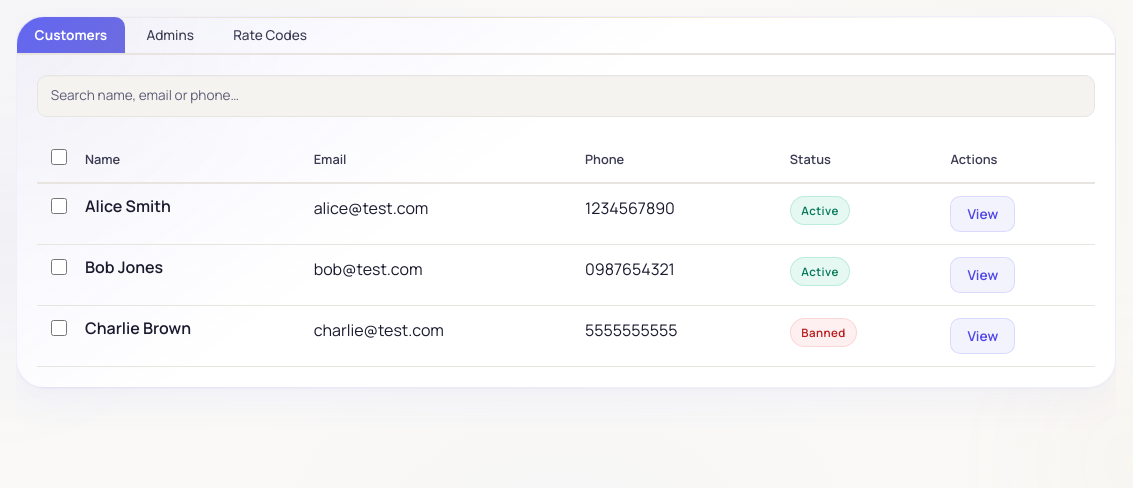
Scenario: AdminUsersConfig Page › clear button deselects all
expect the text "Alice Smith" is shown: met, box [85, 195, 171, 217]
Click the checkbox next to "Name" at (59, 157), box [51, 149, 67, 165]
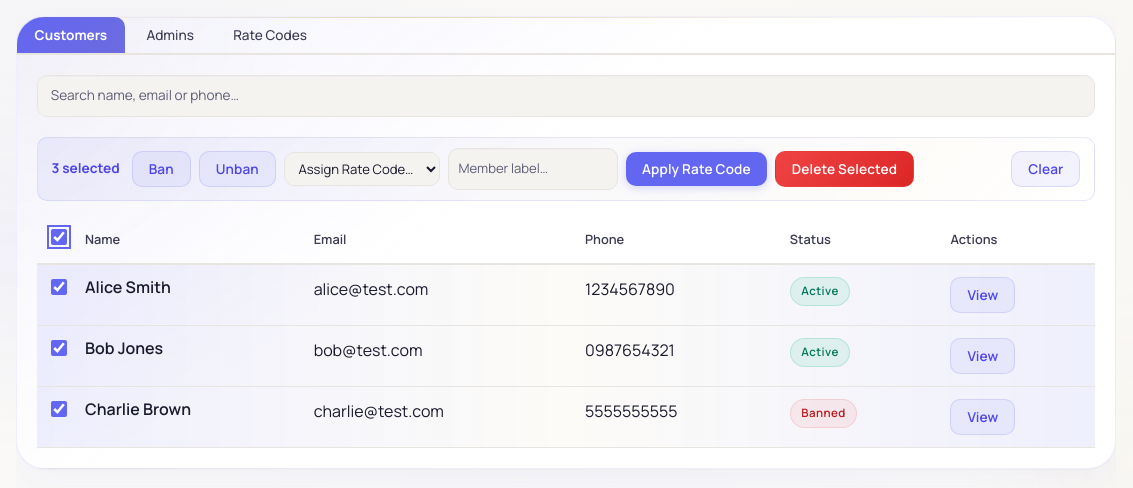
Click the button "Clear" at (1046, 169), box [1011, 151, 1080, 187]
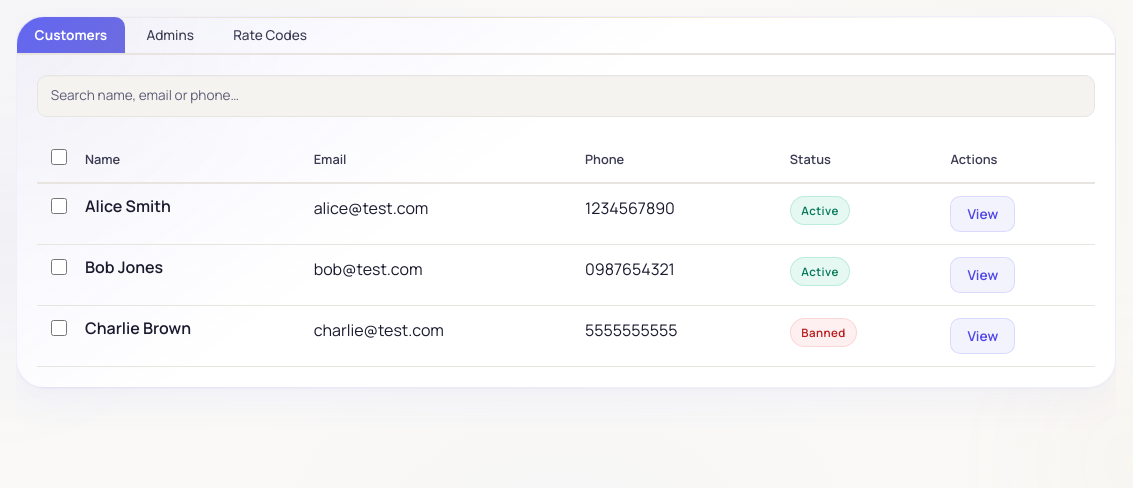
expect the text "selected" is gone: met
